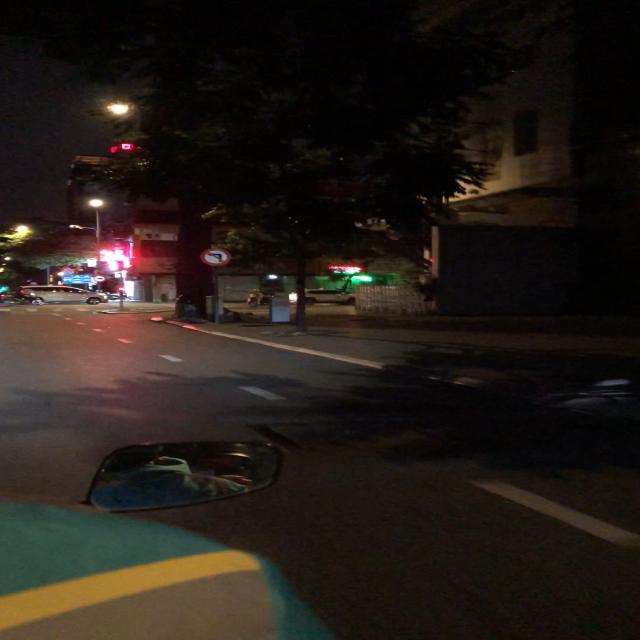Bien bao cam re trai: (198, 245, 236, 268)
Bien bao cam xe so-mi ro-mooc: (92, 273, 110, 282)
